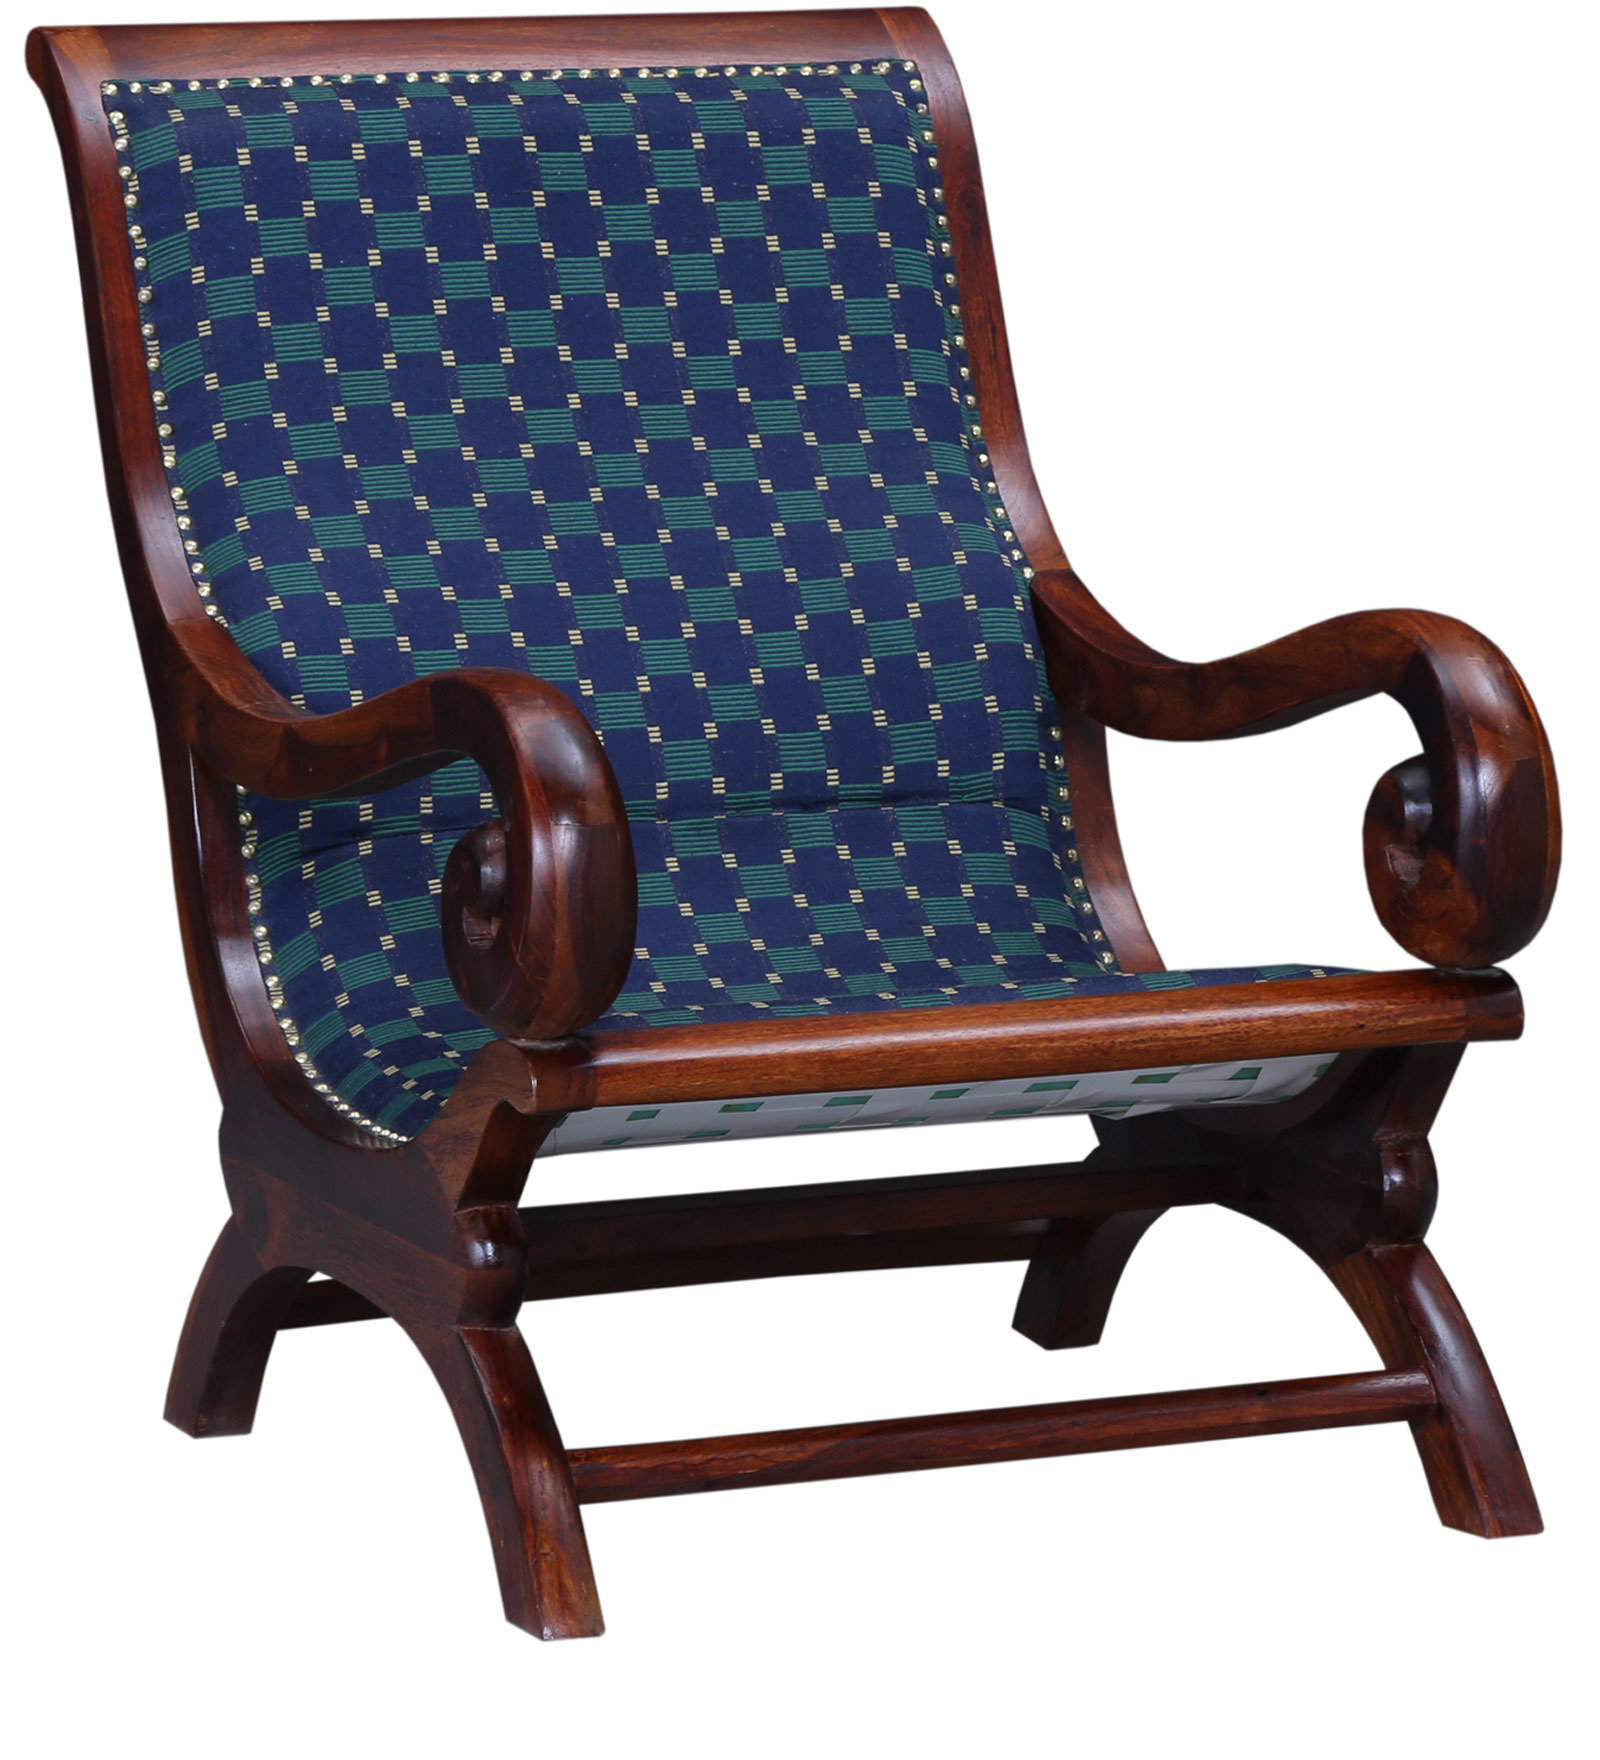Amherst Arm Chair in Honey Oak Finish by Amberville: (14, 12, 1589, 1643)
